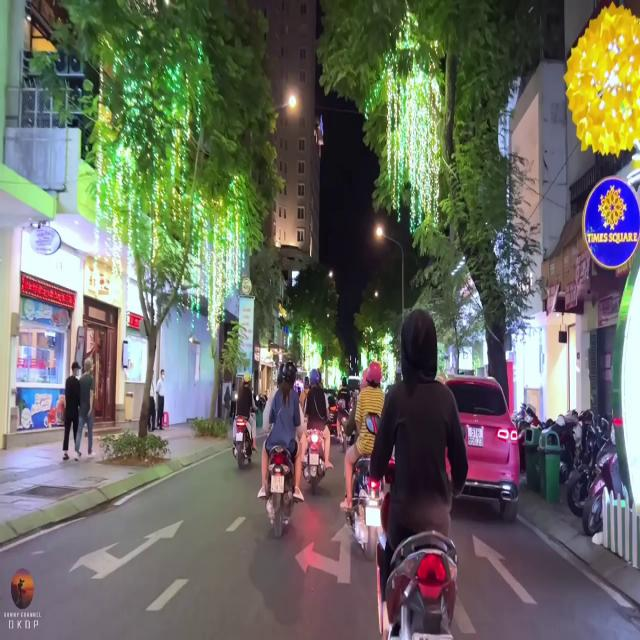bien_trang: (465, 424, 485, 450)
